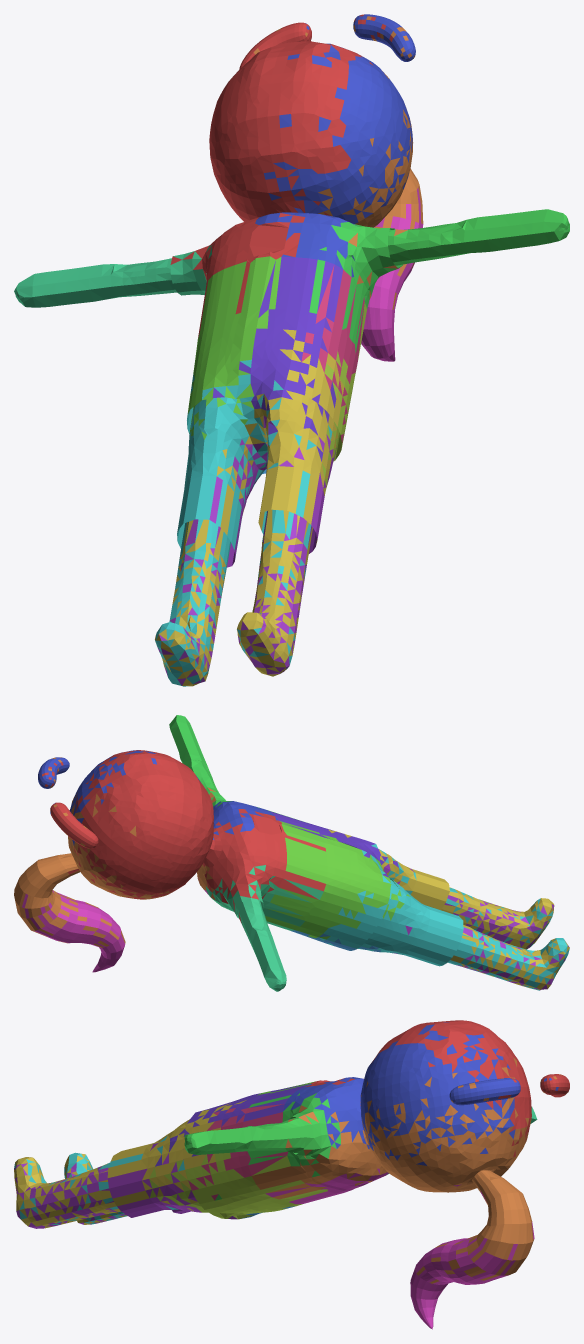
The model's file is seg_figure_densematcher.glb.
3 views of the same model, one above another, from view 1: azimuth 30°, elevation 25°; view 2: azimuth 150°, elevation 25°; view 3: azimuth 270°, elevation 25° (orthographic). The views are drawn at different scales.
Parts seen in each view (by area): view 1: world; view 2: world; view 3: world.
Boxes of the visible parts, <box> form: world: <box>14,14,569,686</box>; world: <box>14,715,569,991</box>; world: <box>14,1020,569,1329</box>.
Bounding box in the file's own units: 1.39 × 1.04 × 1.56.
